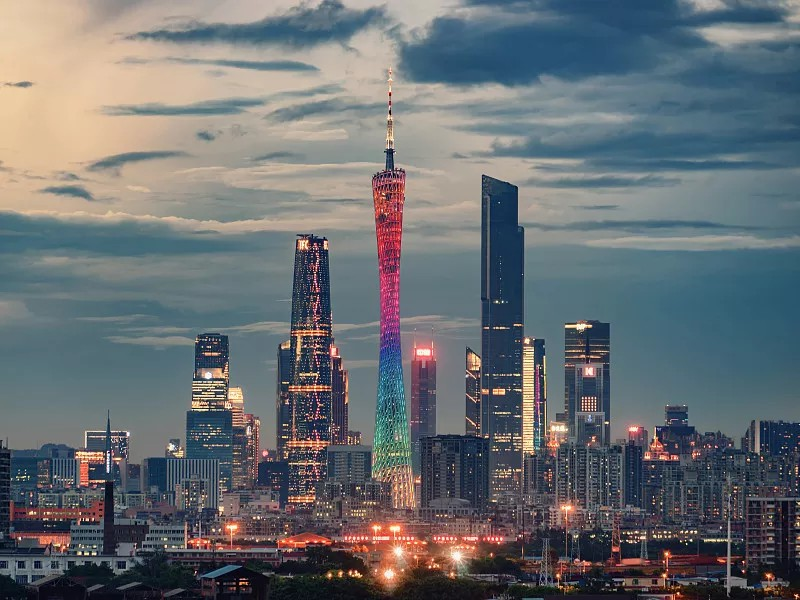Canton: (370, 68, 415, 508)
